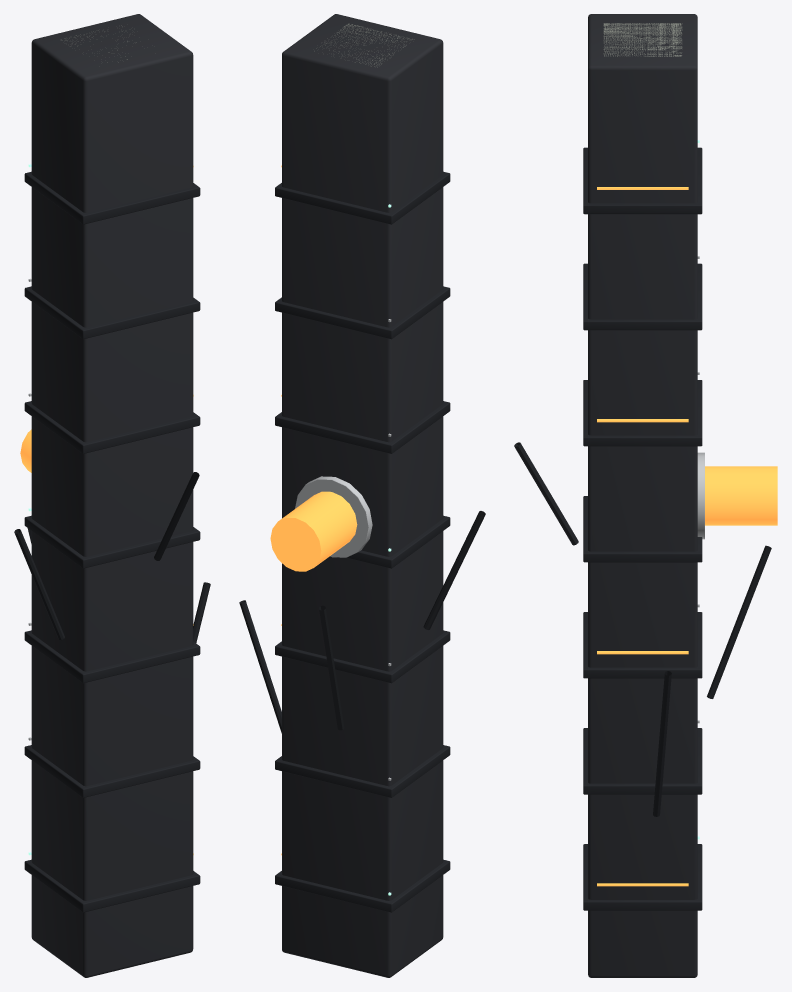
File: hero_machine_core.glb
3 renders of one model, left to right at view 1: azimuth 30°, elevation 25°; view 2: azimuth 150°, elevation 25°; view 3: azimuth 270°, elevation 25°, orthographic.
Parts seen in each view (by area): view 1: CoreBody, CoreSeg2, CoreSeg1, CoreSeg4, CoreSeg5, CoreSeg6, CoreSeg0, CoreSeg3, CoreConduit2, CoreConduit3, CoreConduit0; view 2: CoreBody, CoreCoil, CoreSeg5, CoreSeg0, CoreSeg4, CoreSeg6, CoreSeg1, CoreCollar, CoreSeg2, CoreSeg3, CoreConduit2, CoreConduit0 (+1 smaller); view 3: CoreBody, CoreCoil, CoreCrown, CoreSeg5, CoreSeg6, CoreSeg4, CoreSeg2, CoreSeg1, CoreSeg0, CoreSeg3, CoreConduit1, CoreConduit0 (+2 smaller).
Boxes of the visible parts, x1,y1,x2,y2 form: CoreBody: (31,14,193,977); CoreSeg2: (24,630,200,683); CoreSeg1: (24,745,200,797); CoreSeg4: (24,401,200,453); CoreSeg5: (24,286,200,339); CoreSeg6: (24,171,200,224); CoreSeg0: (24,859,200,912); CoreSeg3: (24,515,200,568); CoreConduit2: (14,529,64,640); CoreConduit3: (154,472,199,560); CoreConduit0: (193,582,210,642); CoreBody: (282,14,443,977); CoreCoil: (270,491,357,571); CoreSeg5: (275,286,450,339); CoreSeg0: (275,859,450,912); CoreSeg4: (275,401,450,453); CoreSeg6: (275,171,450,224); CoreSeg1: (275,745,450,797); CoreCollar: (295,476,372,557); CoreSeg2: (275,630,450,683); CoreSeg3: (347,515,450,568); CoreConduit2: (423,511,485,629); CoreConduit0: (239,600,281,733); CoreBody: (588,14,697,977); CoreCoil: (705,466,777,525); CoreCrown: (603,23,682,56); CoreSeg5: (583,263,702,330); CoreSeg6: (583,147,702,214); CoreSeg4: (583,380,702,446); CoreSeg2: (583,612,702,678); CoreSeg1: (583,728,702,794); CoreSeg0: (583,844,702,910); CoreSeg3: (583,496,702,562); CoreConduit1: (707,545,771,698); CoreConduit0: (653,671,671,816).
Bounding box in the file's own units: 5.63 × 22 × 5.76.
